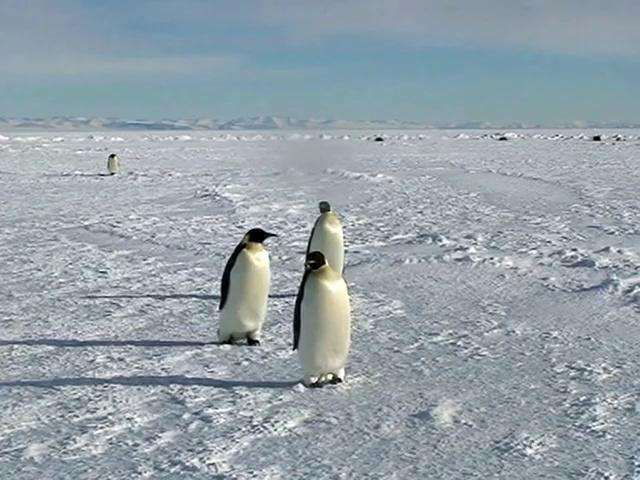animal: (307, 202, 344, 274)
